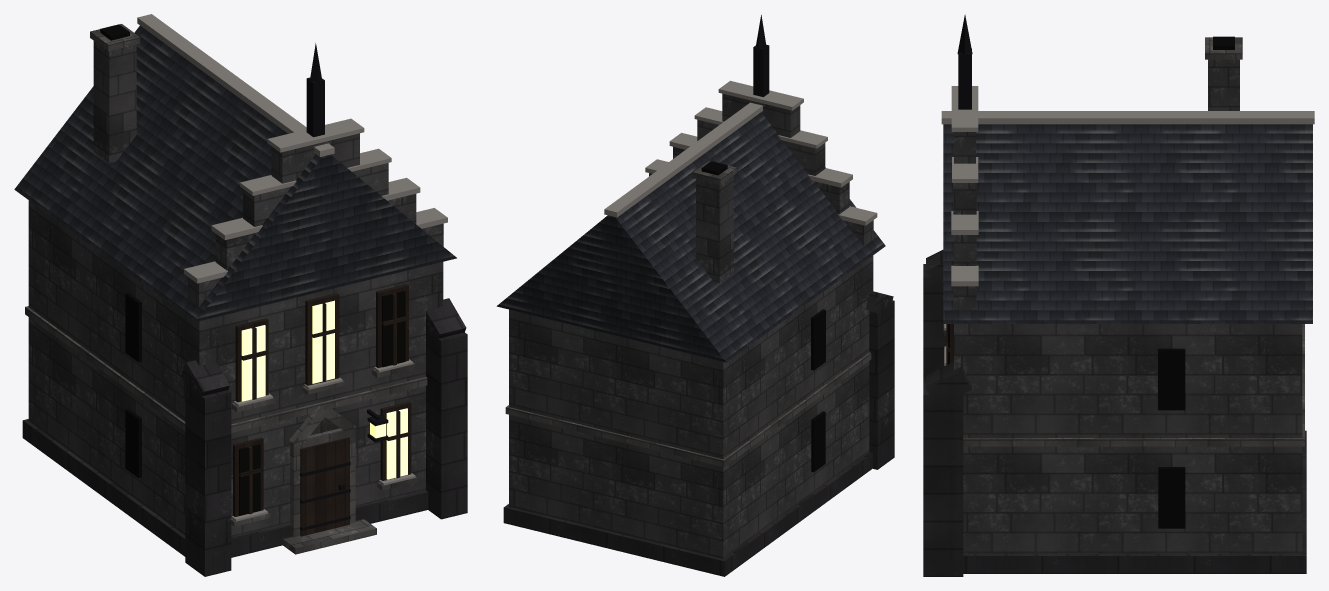
File: CasaPiedra.gltf
3 views of the same model, side by side, from view 1: azimuth 30°, elevation 25°; view 2: azimuth 150°, elevation 25°; view 3: azimuth 270°, elevation 25° (orthographic). The views are drawn at different scales.
Parts seen in each view (by area): view 1: CasaPiedra; view 2: CasaPiedra; view 3: CasaPiedra.
Boxes of the visible parts, x1,y1,x2,y2 form: CasaPiedra: (14, 14, 467, 576); CasaPiedra: (496, 15, 894, 576); CasaPiedra: (923, 14, 1314, 576).
Size of the model in its own units: 7.12 by 12.62 by 9.
Materials: 9 (5 with a texture image).
